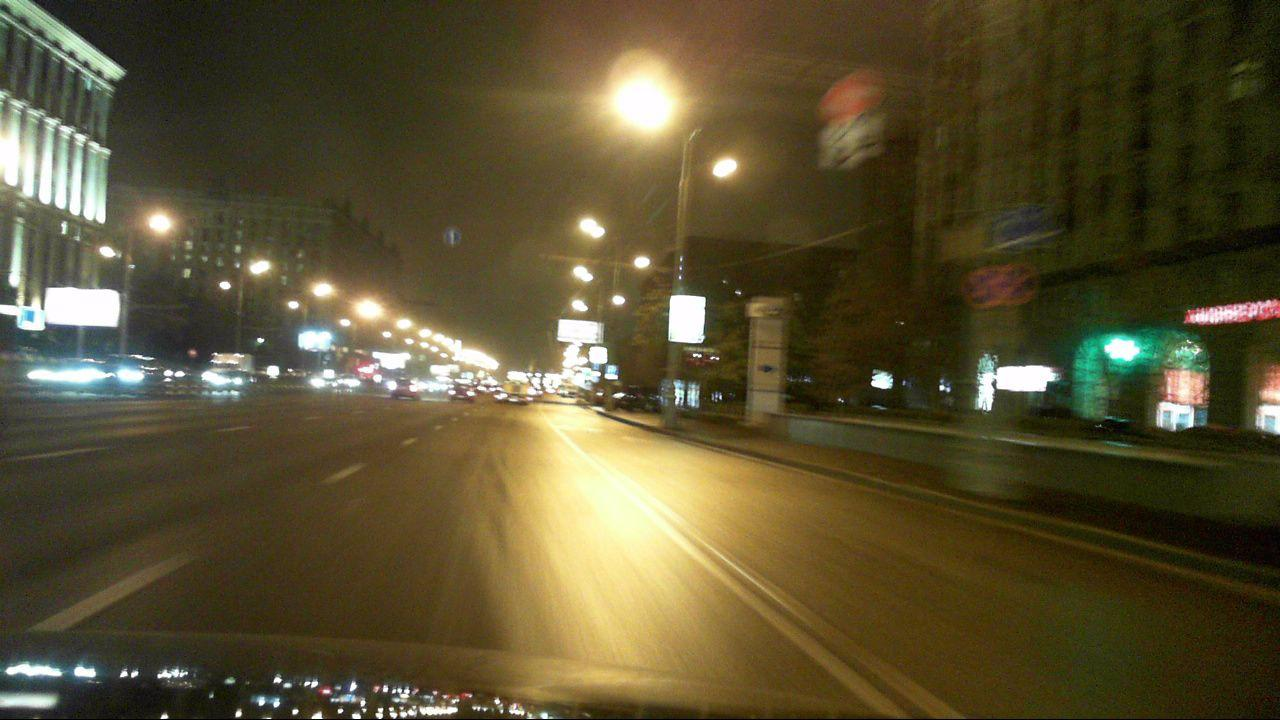3_27: (964, 263, 1003, 311)
6_6: (1013, 205, 1054, 249)
